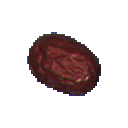gd: (15, 18, 112, 111)
